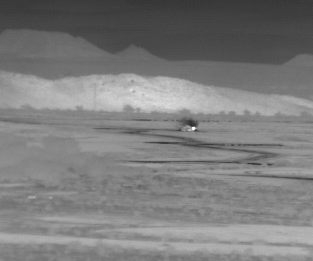Target: (181, 126, 195, 131)
